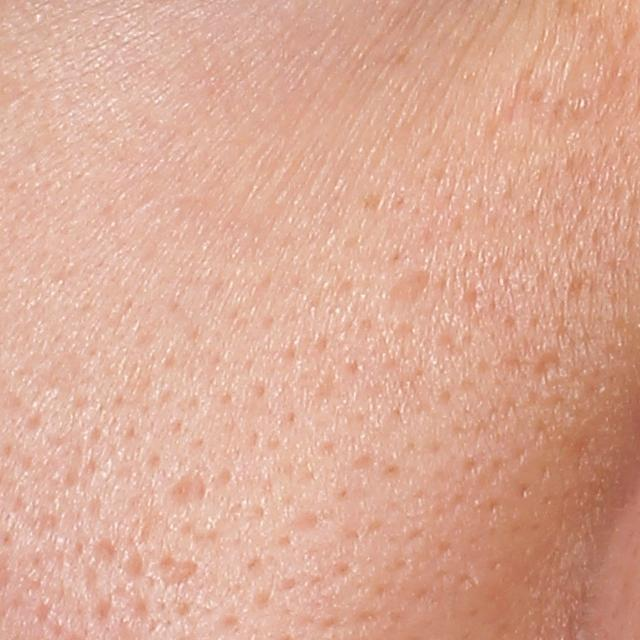atrophic_scar: (385, 267, 437, 312), (162, 463, 210, 508), (155, 554, 202, 588), (530, 348, 570, 385)
